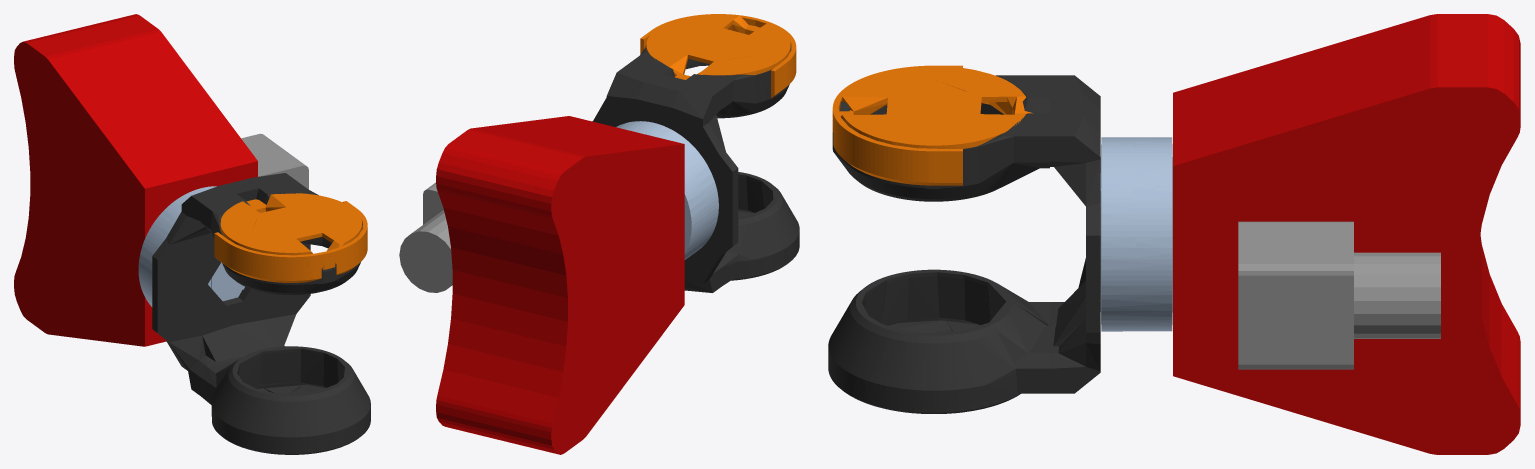
The model's file is LARM_LINK7_mesh.dae.
The picture shows the model from 3 angles, left to right: view 1: azimuth 30°, elevation 25°; view 2: azimuth 150°, elevation 25°; view 3: azimuth 270°, elevation 25°; orthographic projection. The views are drawn at different scales.
Parts seen in each view (by area): view 1: LARM_LINK7 (×9); view 2: LARM_LINK7 (×9); view 3: LARM_LINK7 (×9).
Part boxes in pixels (<box>): LARM_LINK7 (×9): <box>14,14,370,454</box>; LARM_LINK7 (×9): <box>399,14,799,454</box>; LARM_LINK7 (×9): <box>828,14,1520,454</box>.
Bounding box in the file's own units: 0.1105 × 0.14 × 0.239.
